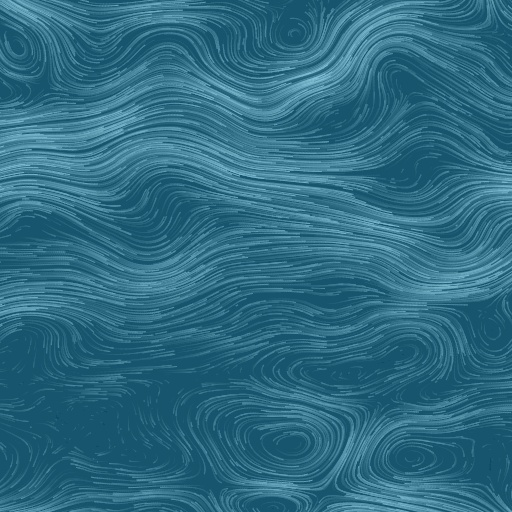eddy: (285, 328, 433, 393), (228, 405, 340, 477), (374, 433, 465, 481), (1, 20, 39, 68), (269, 13, 315, 49)
